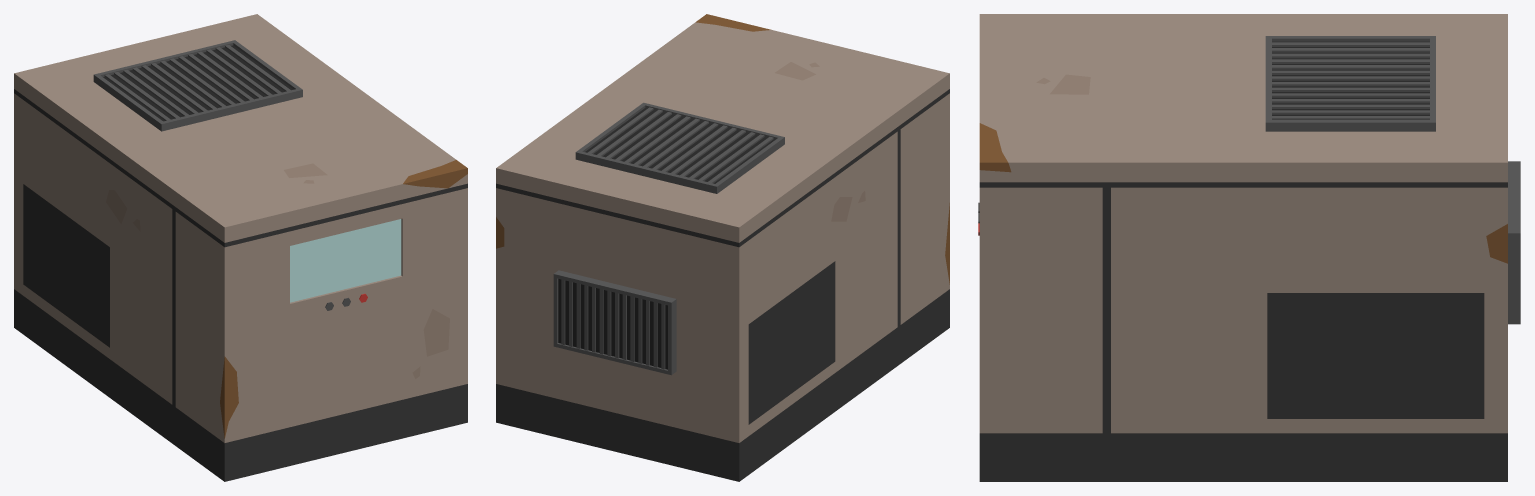
The model's file is Generator_01.fbx.
3 renders of one model, left to right at view 1: azimuth 30°, elevation 25°; view 2: azimuth 150°, elevation 25°; view 3: azimuth 270°, elevation 25°, orthographic. The views are drawn at different scales.
Parts seen in each view (by area): view 1: Generator_01; view 2: Generator_01; view 3: Generator_01.
Boxes of the visible parts, left/top/right/bottom form: Generator_01: left=14, top=14, right=467, bottom=481; Generator_01: left=496, top=14, right=949, bottom=481; Generator_01: left=978, top=14, right=1520, bottom=481.
Size of the model in its own units: 127 by 130 by 195.
